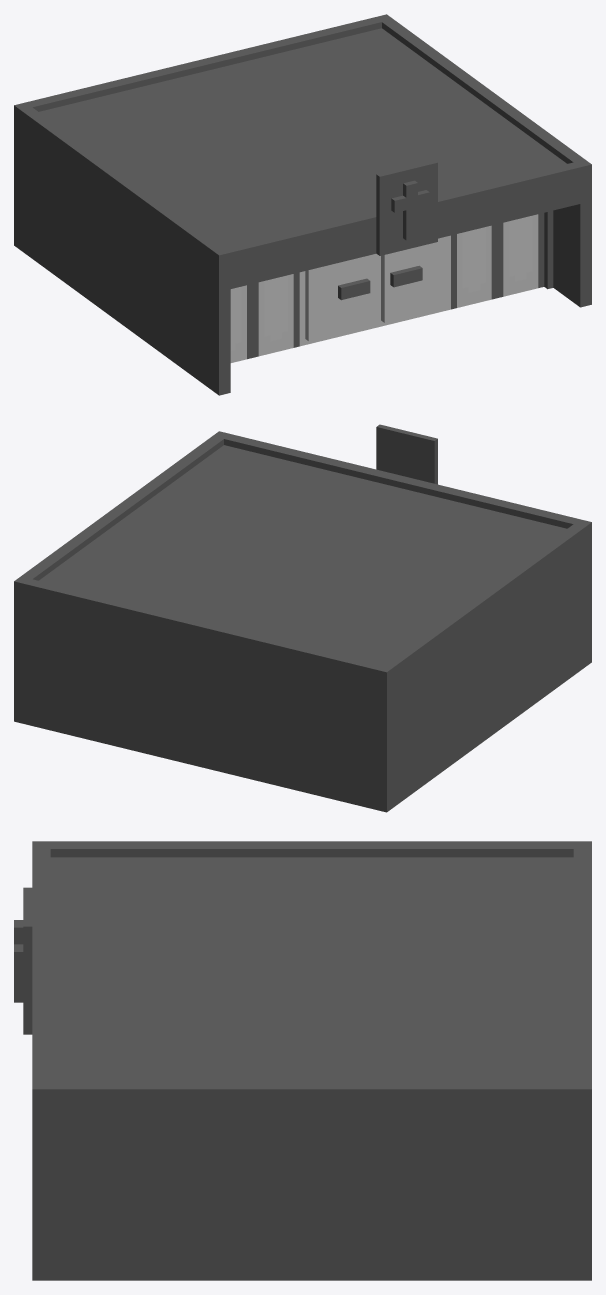
Rendered from bld_store17.obj.
3 views of the same model, one above another, from view 1: azimuth 30°, elevation 25°; view 2: azimuth 150°, elevation 25°; view 3: azimuth 270°, elevation 25° (orthographic). The views are drawn at different scales.
Size of the model in its own units: 64 by 30 by 63.
